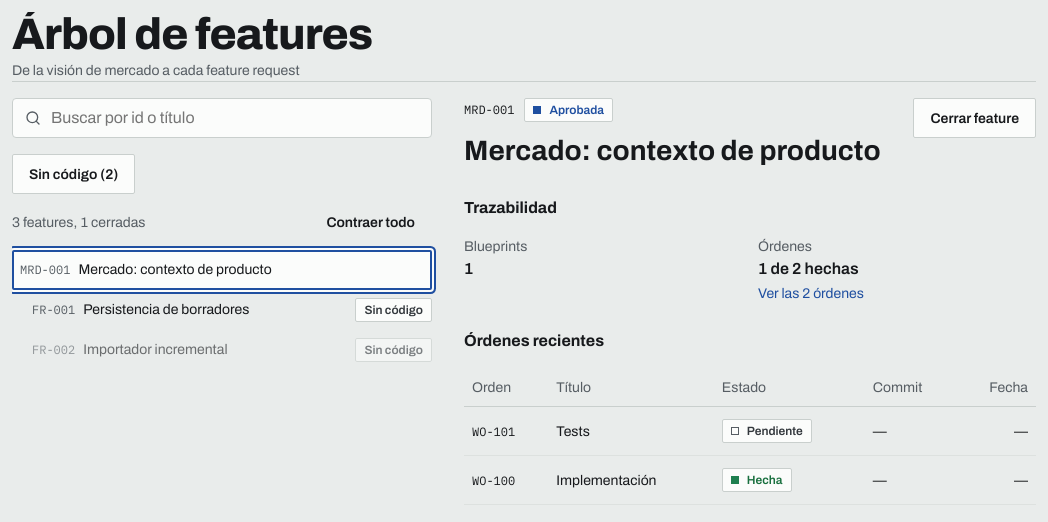
Test case: ProjectGraph (árbol de features) › el encabezado sigue el filtro activo (WO-750, SDD-105 D3) › al limpiar el chip vuelve al conteo de siempre
Click the button "Sin código (2)" at {"x": 74, "y": 174}, box left=12, top=154, right=135, bottom=194
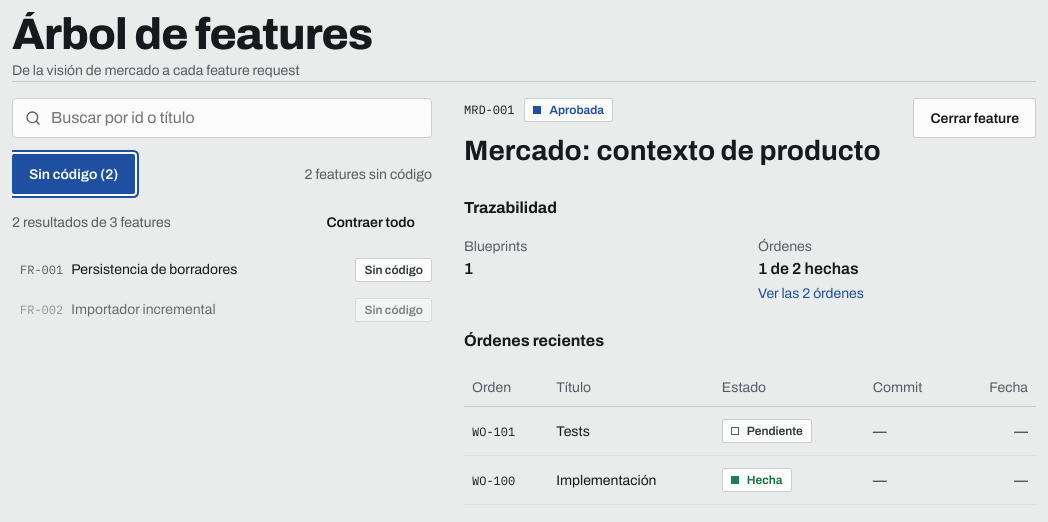
Click the button "Sin código (2)" at {"x": 74, "y": 174}, box left=12, top=154, right=135, bottom=194
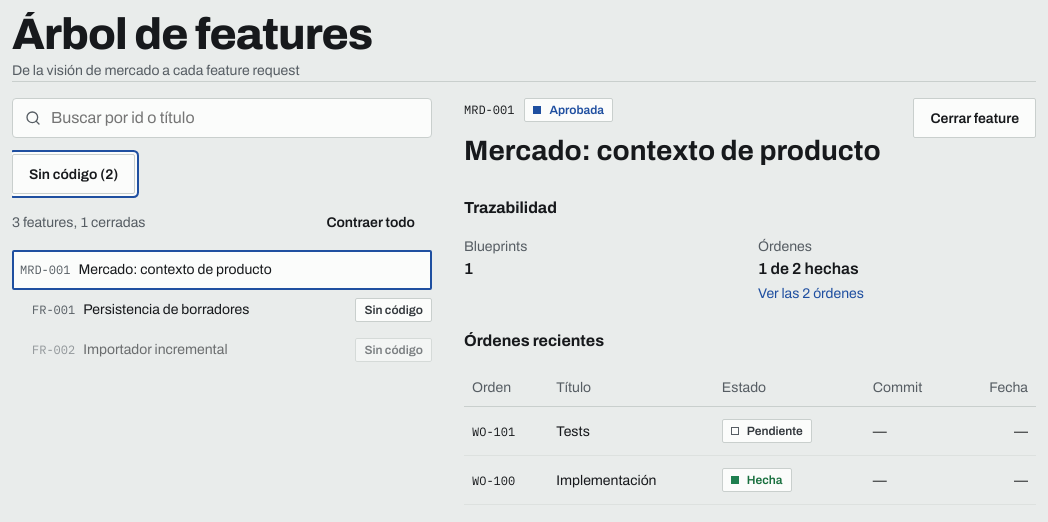
Result: the number of list items is 3 at left=12, top=250, right=432, bottom=290; left=12, top=290, right=432, bottom=330; left=12, top=330, right=432, bottom=370
